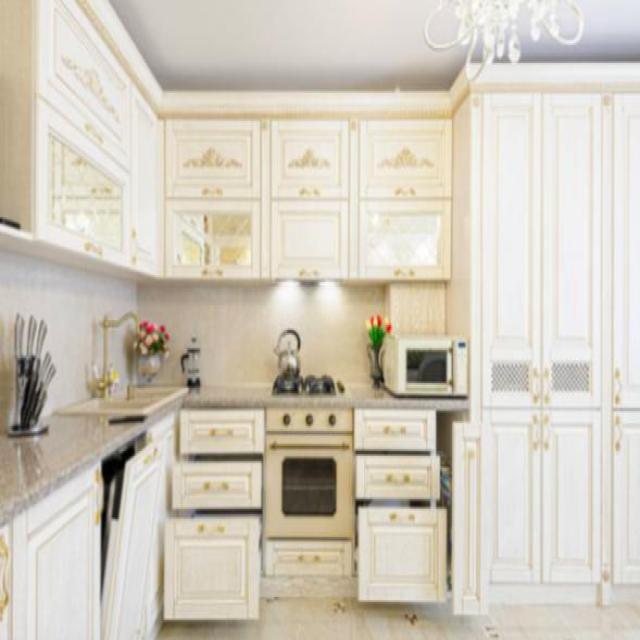dishwasher: (102, 431, 163, 638)
